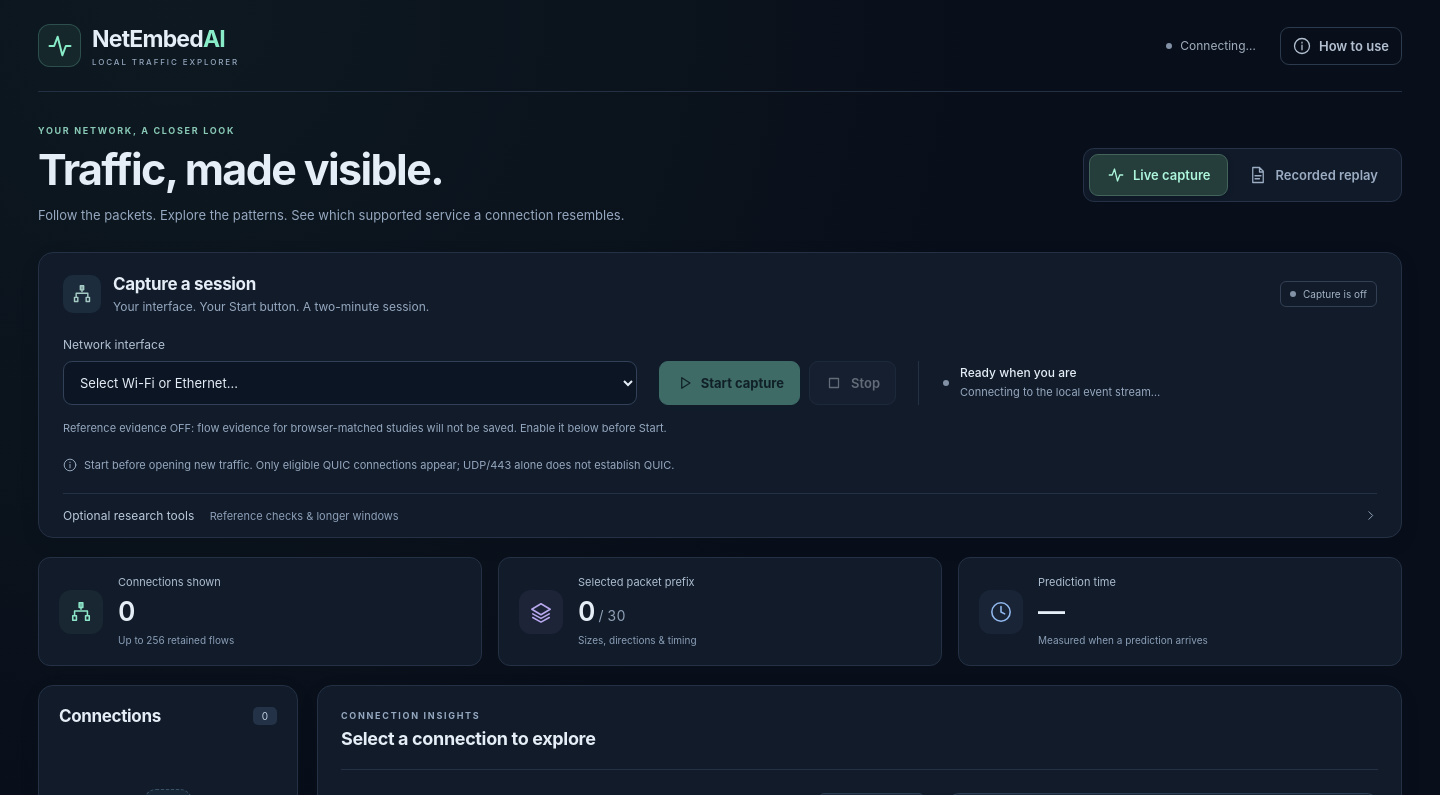
shows a getting-started guide without starting capture
The image size is (1440, 795).
Click the button "How to use". click: (1341, 46)
box: [1280,26,1402,64]
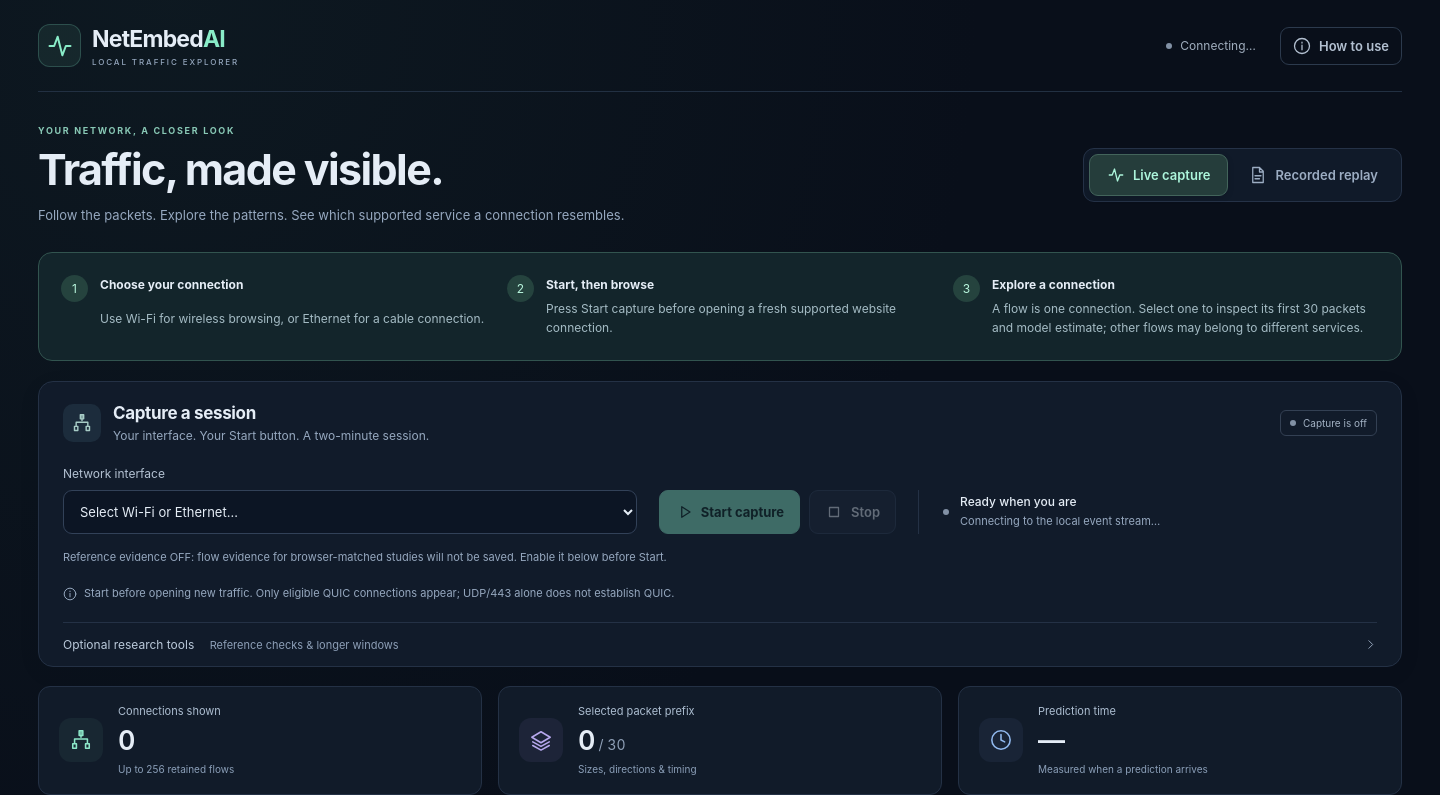
Expected: the element named "Getting started" shows "Choose your connection", [100,277,243,292]
